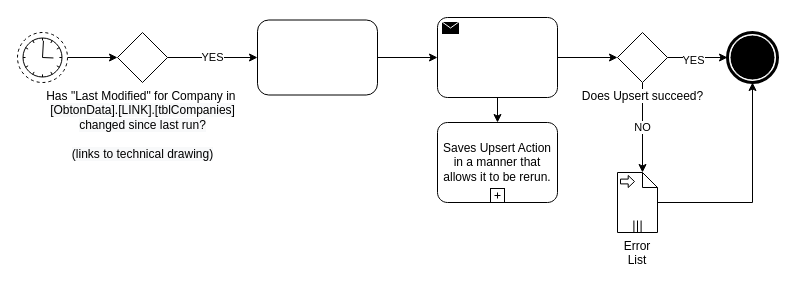
Some shapes in this 795 by 286 pixel diagram are drawn without their labels. The box of each missing label's shape, as (x1, y1, x2, y2) in pixels:
Create BC365 JSON from [ObtonData].[LINK].[tblCompanies] Data: (256, 19, 378, 95)
Upsert Company through helios-api-cardea-bc365.: (436, 16, 558, 98)
